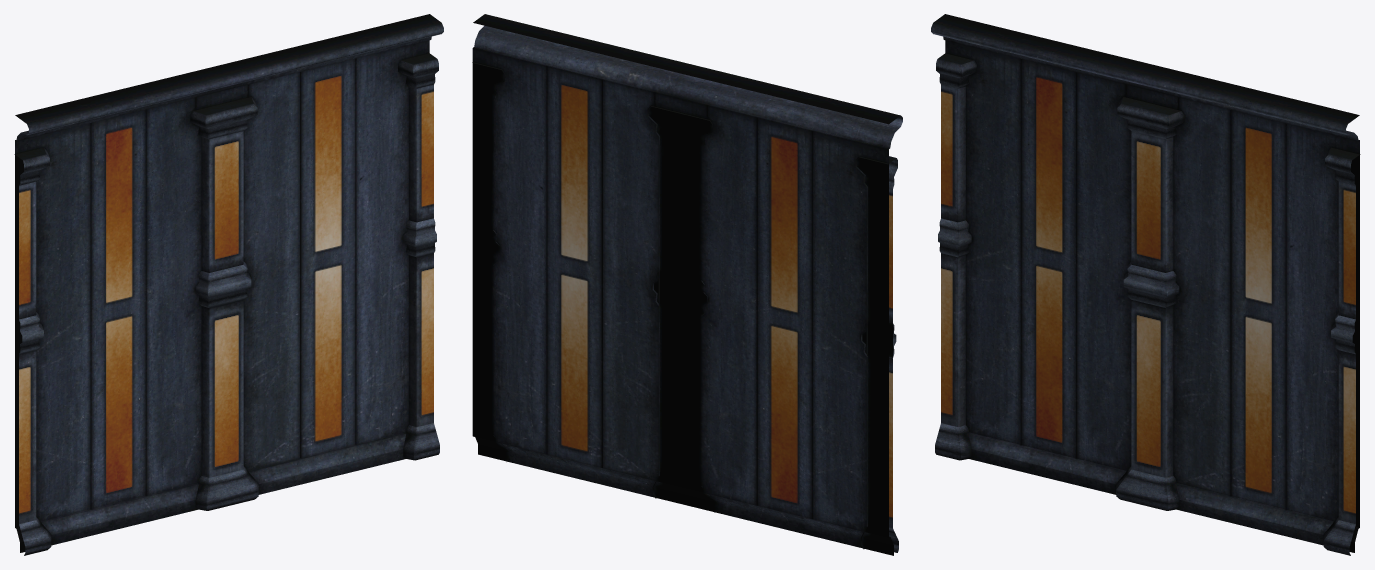
The model's file is default02_blue.dae.
3 renders of one model, left to right at view 1: azimuth 30°, elevation 25°; view 2: azimuth 150°, elevation 25°; view 3: azimuth 330°, elevation 25°, orthographic.
Visible parts, largest first — view 1: default02; view 2: default02; view 3: default02.
Boxes of the visible parts, left/top/right/bottom form: default02: left=14, top=14, right=443, bottom=555; default02: left=472, top=14, right=902, bottom=555; default02: left=931, top=14, right=1360, bottom=555.
Bounding box in the file's own units: 4 × 4 × 0.2475.
